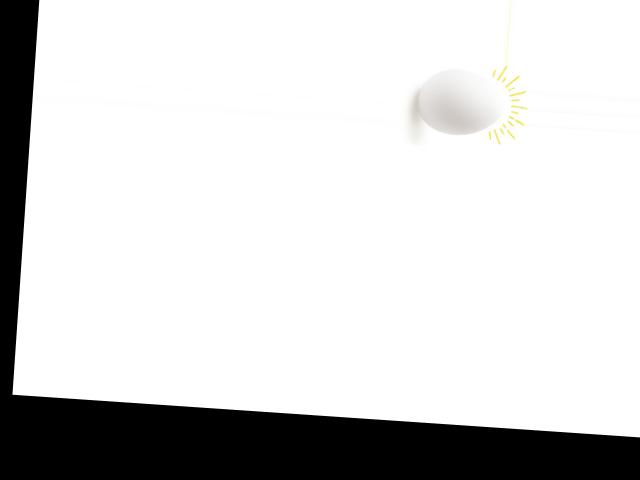egg: (415, 65, 506, 137)
